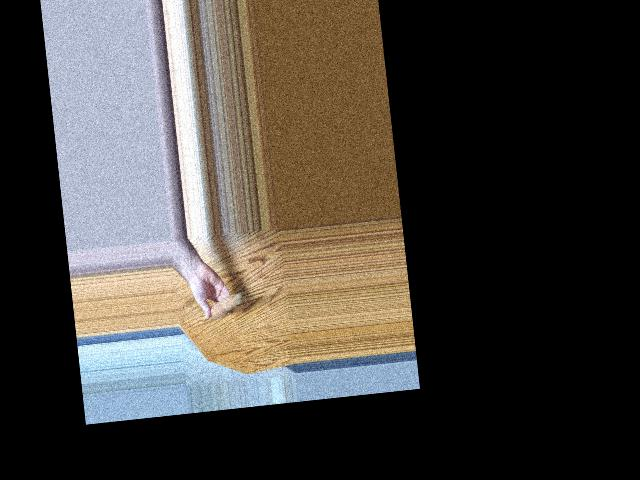sweet_potato: (206, 291, 244, 319)
